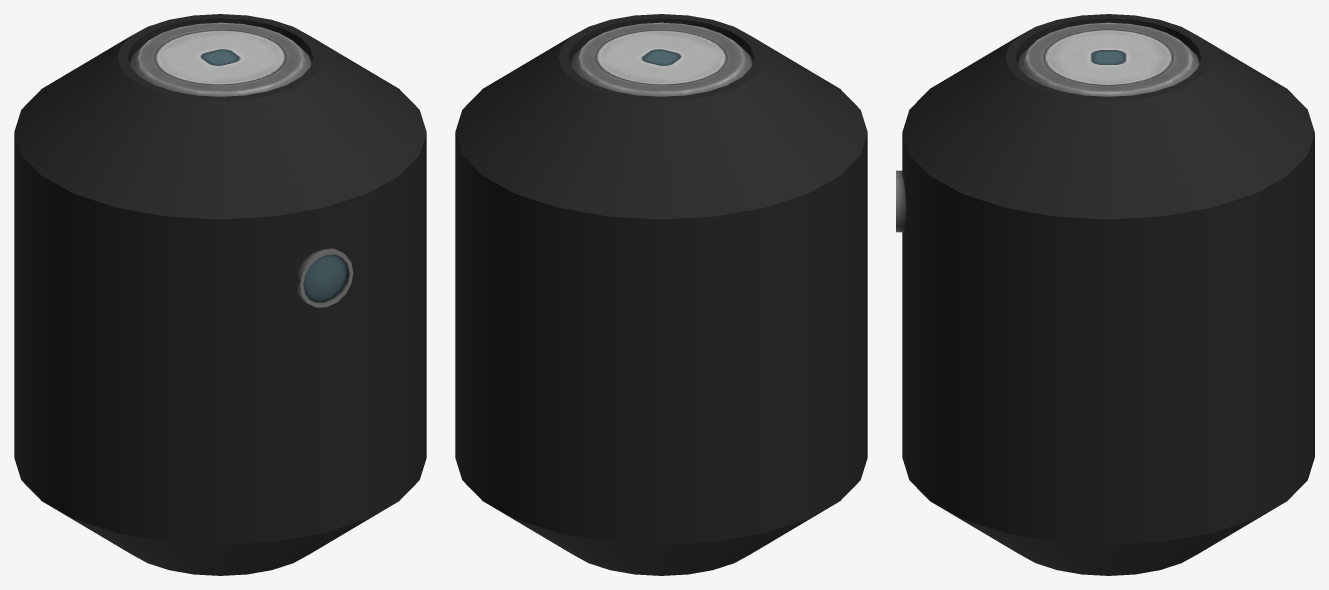
The model's file is Tantares_Orbital_2.obj.
3 views of the same model, side by side, from view 1: azimuth 30°, elevation 25°; view 2: azimuth 150°, elevation 25°; view 3: azimuth 270°, elevation 25° (orthographic).
Visible parts, largest first — view 1: Tantares_Orbital_2, Tantares_Orbital_2_Window; view 2: Tantares_Orbital_2; view 3: Tantares_Orbital_2.
Boxes of the visible parts, x1=… form: Tantares_Orbital_2: x1=14, y1=14, x2=426, y2=575; Tantares_Orbital_2_Window: x1=303, y1=254, x2=347, y2=302; Tantares_Orbital_2: x1=455, y1=14, x2=867, y2=575; Tantares_Orbital_2: x1=896, y1=14, x2=1314, y2=575.
Bounding box in the file's own units: 1.25 × 1.59 × 1.27.
